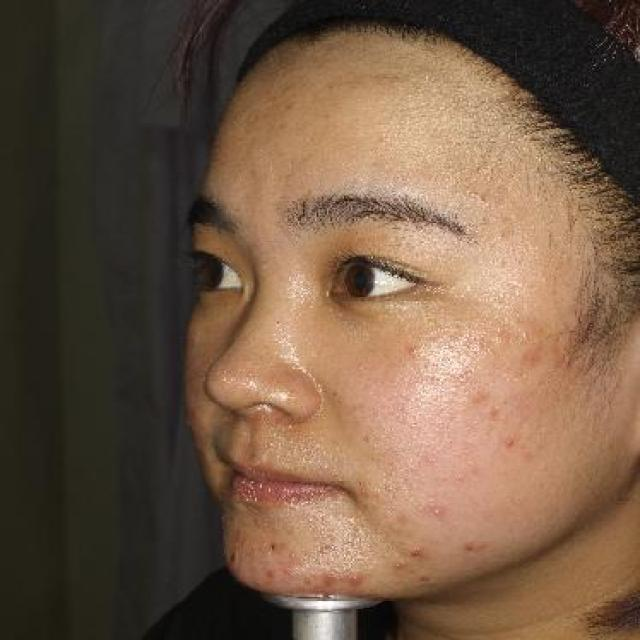nodules: (400, 539, 431, 566)
